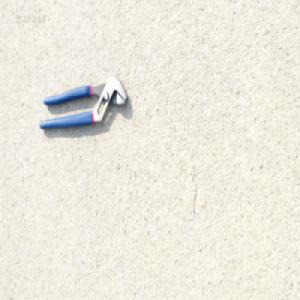Pliers: (40, 73, 129, 131)
